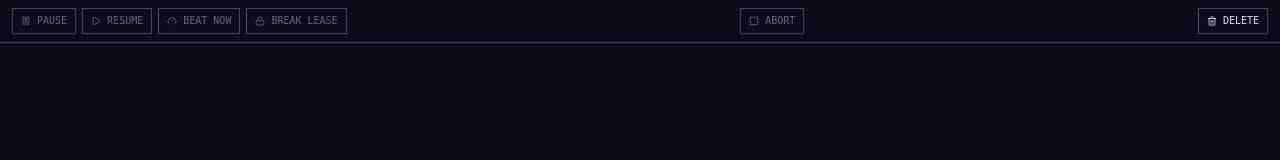
Test: the werk-master window can delete a run › shows the reply verbatim
This screenshot has width=1280, height=160.
What coordinates should you click on to do the following:
click the button "DELETE"
I would click on:
 (1233, 21)
Its box is [1198,8,1268,34].
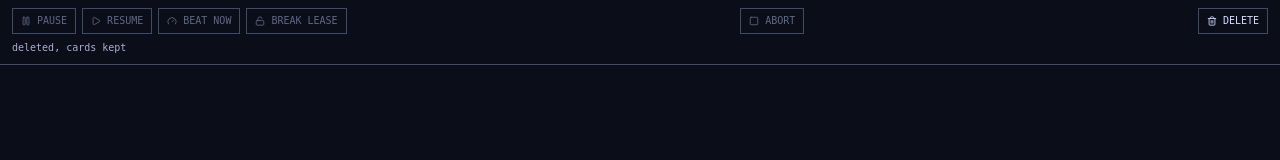
Now the text "deleted, cards kept" is shown, box [12,42,126,53]
